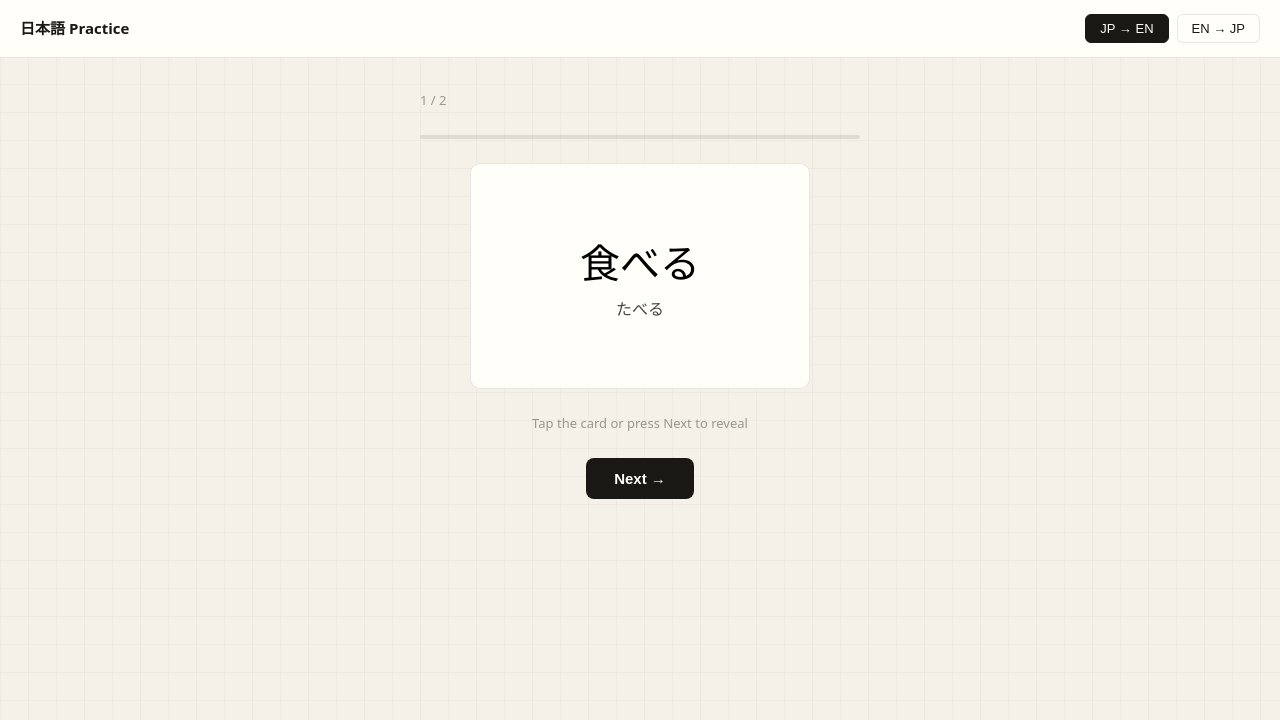
Test case: VocabularyPractice › tapping card flips then advances
Click the button with aria-label "flip" at point(640, 276), box [470,163,810,390]
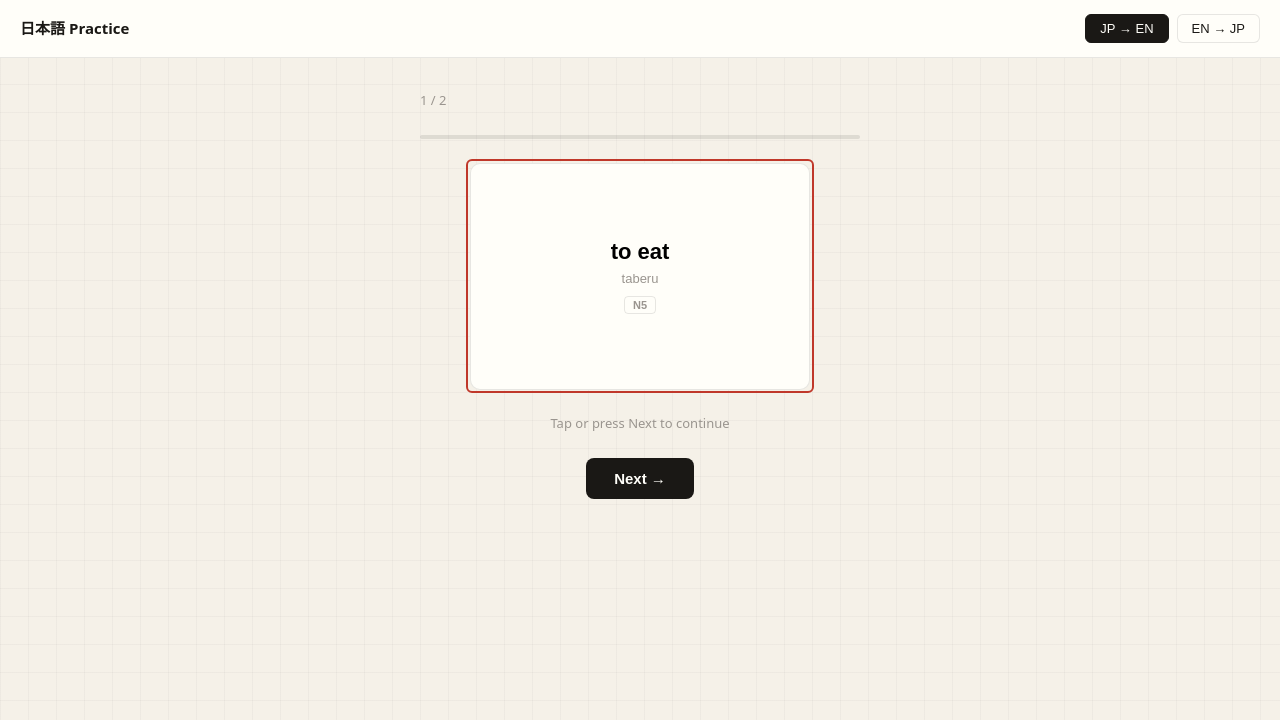
Result: the button with aria-label "flip" is pressed
Click the button with aria-label "flip" at point(640, 276), box [470,163,810,390]
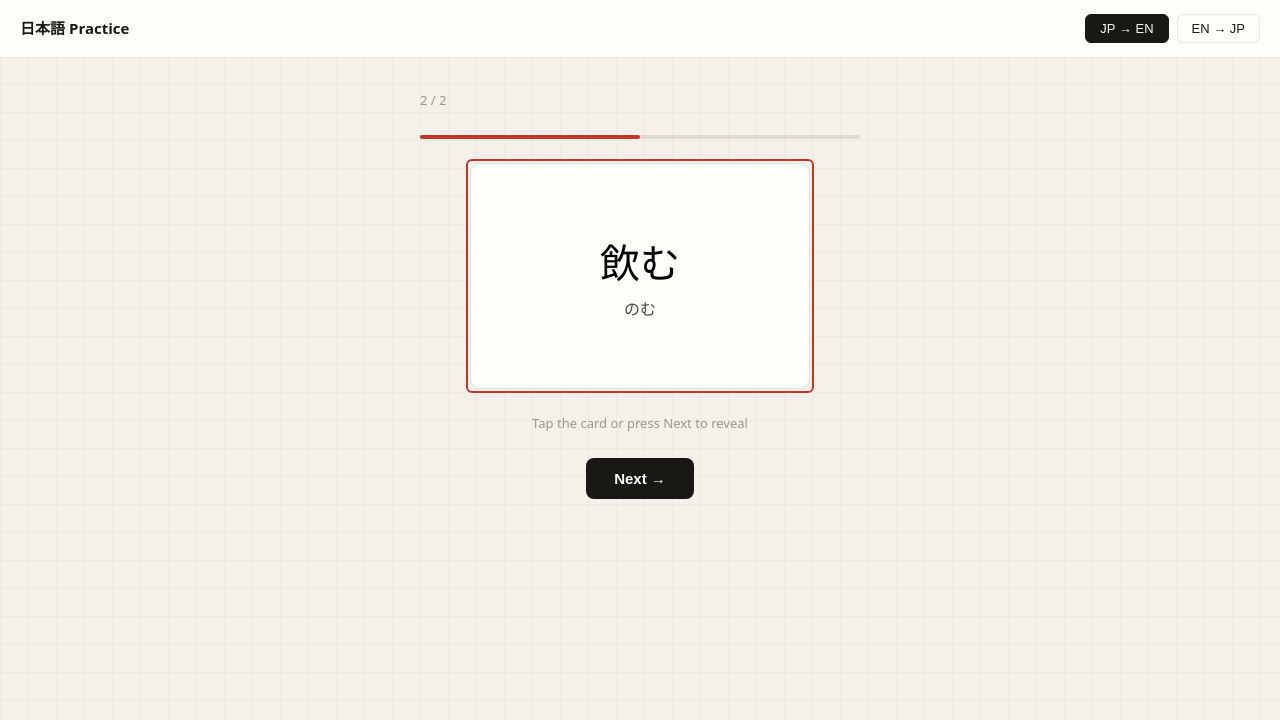
Result: the text "2 / 2" is shown at [420,90,446,111]
